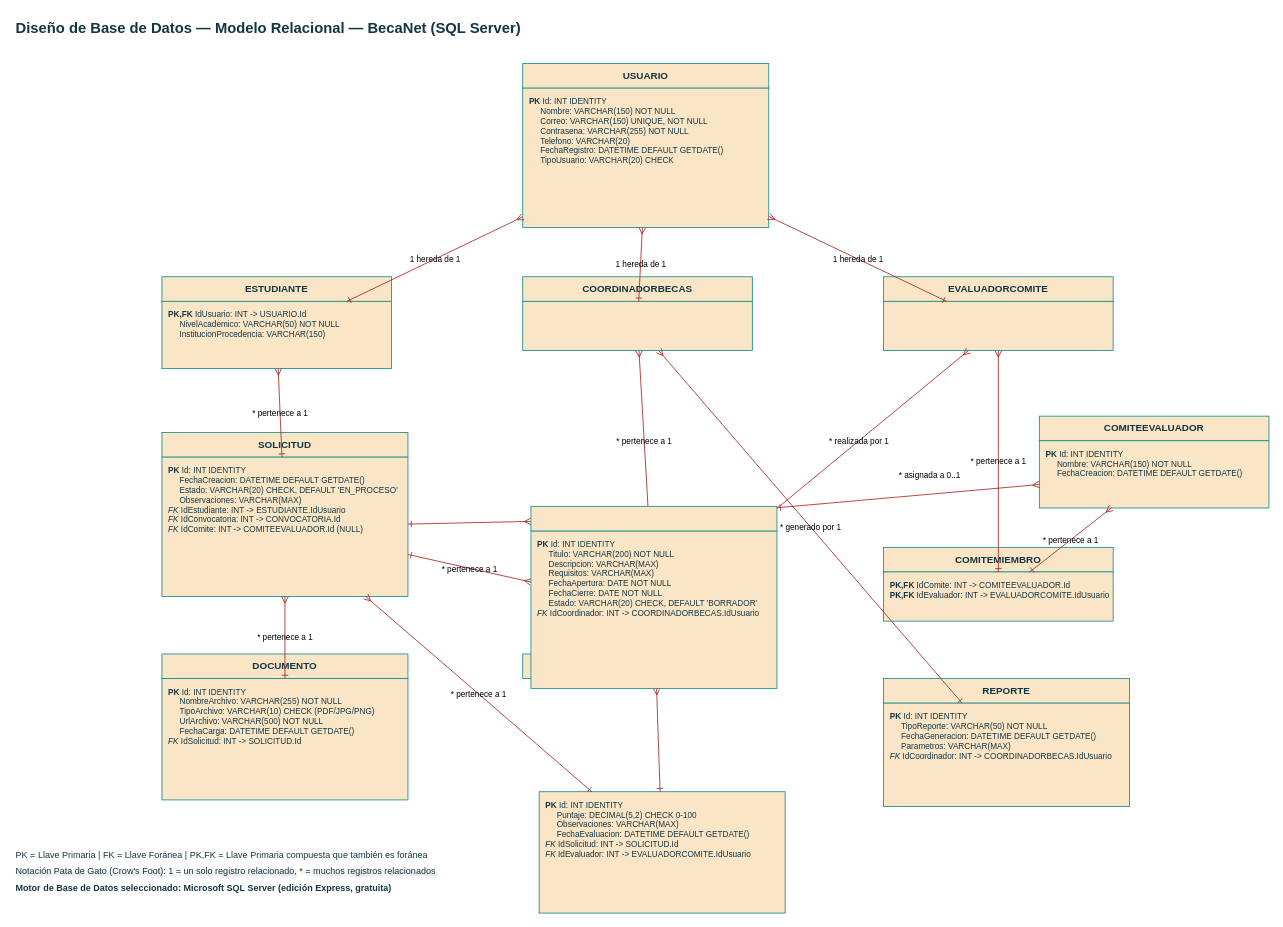
Image size: 1283x927. Some labels were removed from this diagram. Here are the shapes that lost their labels. From the top down, the centre of each, then its label:
(637,326): PK,FK IdUsuario: INT -> USUARIO.Id Cargo: VARCHAR(100)
(998,326): PK,FK IdUsuario: INT -> USUARIO.Id Especialidad: VARCHAR(100)
(653,518): CONVOCATORIA
